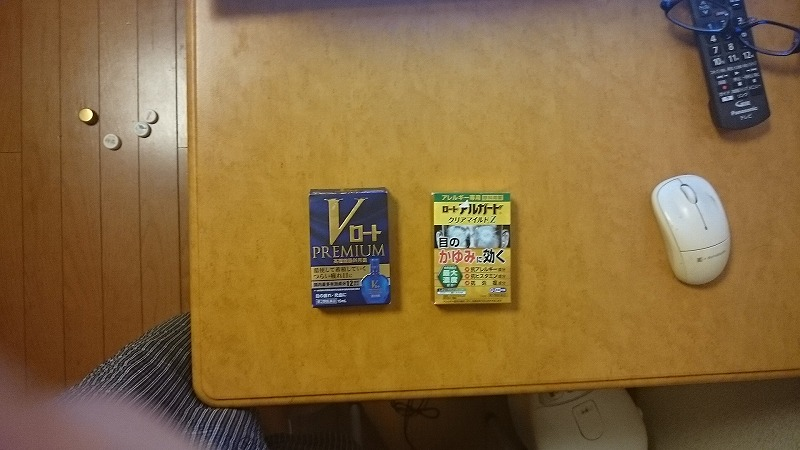C: (427, 189, 520, 310)
D: (306, 188, 397, 315)
